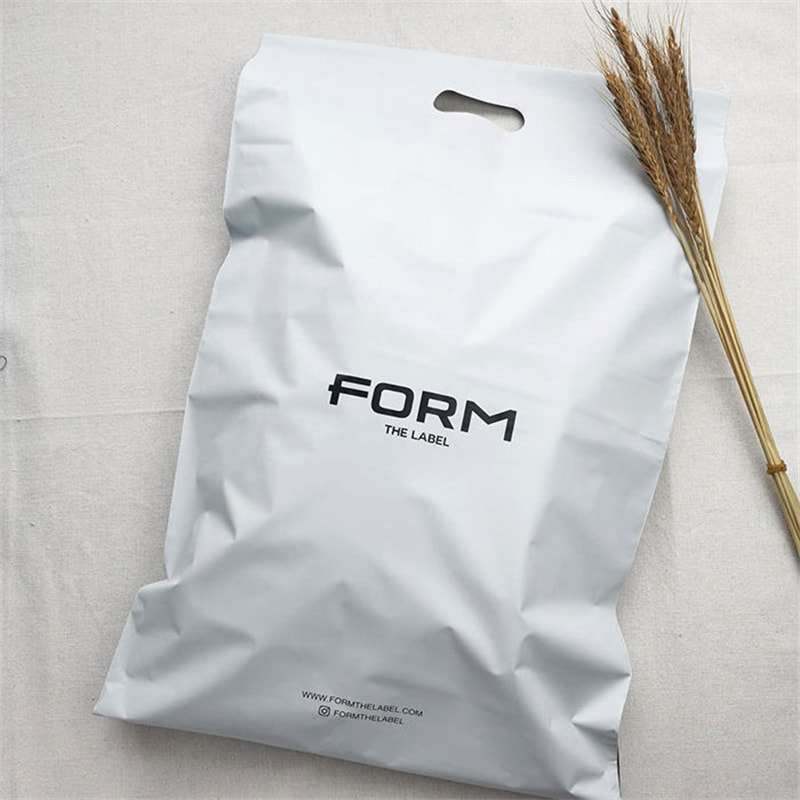塑料袋: (98, 42, 698, 797)
